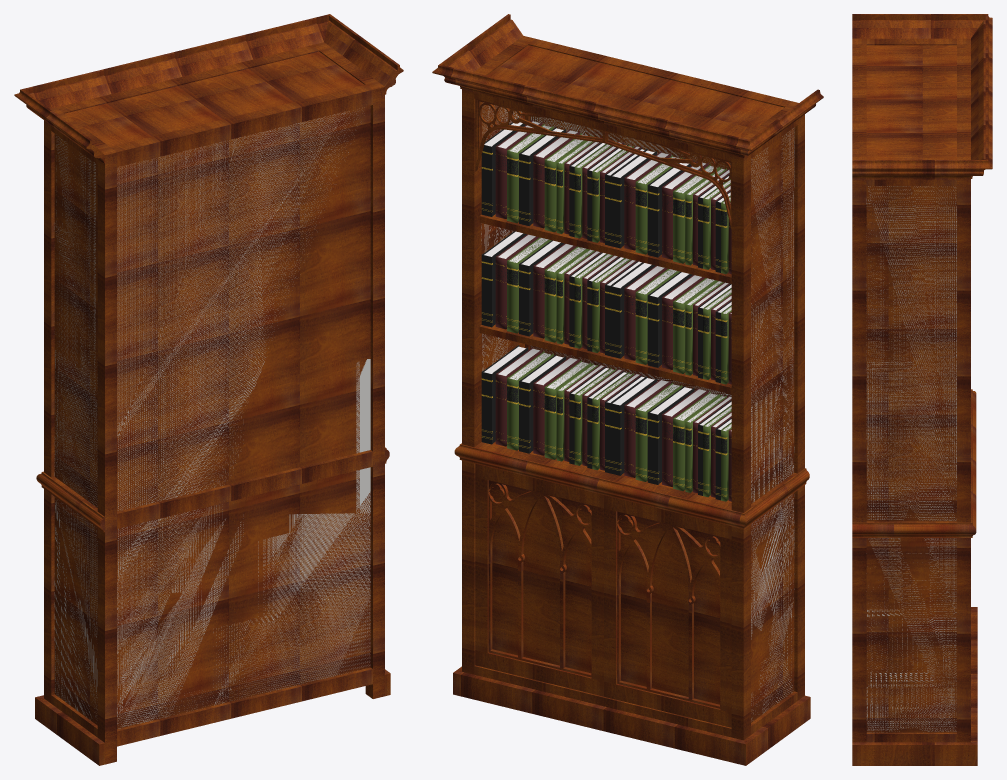
3 renders of one model, left to right at view 1: azimuth 30°, elevation 25°; view 2: azimuth 150°, elevation 25°; view 3: azimuth 270°, elevation 25°, orthographic. The views are drawn at different scales.
Visible parts, largest first — view 1: mesh52_mesh52-geometry, mesh107_mesh107-geometry, mesh73_mesh73-geometry, mesh1_mesh1-geometry, mesh48_mesh48-geometry, mesh111_mesh111-geometry, mesh65_mesh65-geometry, mesh71_mesh71-geometry, mesh115_mesh115-geometry, mesh34_mesh34-geometry, mesh50_mesh50-geometry, mesh53_mesh53-geometry (+4 smaller); view 2: mesh119_mesh119-geometry, mesh98_mesh98-geometry, mesh107_mesh107-geometry, mesh135_mesh135-geometry, mesh133_mesh133-geometry, mesh139_mesh139-geometry, mesh131_mesh131-geometry, mesh71_mesh71-geometry, mesh1_mesh1-geometry, mesh113_mesh113-geometry, mesh111_mesh111-geometry, mesh137_mesh137-geometry (+32 smaller); view 3: mesh11_mesh11-geometry, mesh5_mesh5-geometry, mesh1_mesh1-geometry, mesh48_mesh48-geometry, mesh113_mesh113-geometry, mesh59_mesh59-geometry, mesh65_mesh65-geometry, mesh43_mesh43-geometry, mesh40_mesh40-geometry, mesh53_mesh53-geometry, mesh115_mesh115-geometry, mesh94_mesh94-geometry (+4 smaller).
Part boxes in pixels (x1,y1,x2,y2): mesh52_mesh52-geometry: (117,105,370,729); mesh107_mesh107-geometry: (54,134,97,507); mesh73_mesh73-geometry: (97,147,116,764); mesh1_mesh1-geometry: (65,51,364,146); mesh48_mesh48-geometry: (365,81,384,698); mesh111_mesh111-geometry: (54,497,97,725); mesh65_mesh65-geometry: (17,14,330,108); mesh71_mesh71-geometry: (44,107,62,703); mesh115_mesh115-geometry: (110,84,372,167); mesh34_mesh34-geometry: (117,667,372,746); mesh50_mesh50-geometry: (117,450,372,528); mesh53_mesh53-geometry: (324,14,403,94); mesh119_mesh119-geometry: (617,511,720,708); mesh98_mesh98-geometry: (488,480,591,677); mesh107_mesh107-geometry: (751,128,794,503); mesh135_mesh135-geometry: (481,117,694,484); mesh133_mesh133-geometry: (507,124,719,491); mesh139_mesh139-geometry: (556,136,731,501); mesh131_mesh131-geometry: (495,120,708,486); mesh71_mesh71-geometry: (731,154,750,740); mesh1_mesh1-geometry: (486,45,783,138); mesh113_mesh113-geometry: (462,89,481,674); mesh111_mesh111-geometry: (751,493,794,722); mesh137_mesh137-geometry: (564,136,731,501); mesh11_mesh11-geometry: (866,186,956,521); mesh5_mesh5-geometry: (866,538,956,732); mesh1_mesh1-geometry: (866,45,956,159); mesh48_mesh48-geometry: (852,179,866,742); mesh113_mesh113-geometry: (957,179,970,742); mesh59_mesh59-geometry: (852,14,988,38); mesh65_mesh65-geometry: (971,14,992,176); mesh43_mesh43-geometry: (852,742,977,765); mesh40_mesh40-geometry: (852,389,976,537); mesh53_mesh53-geometry: (852,160,992,179); mesh115_mesh115-geometry: (852,44,866,159); mesh94_mesh94-geometry: (957,44,970,159).
Bounding box in the file's own units: 0.4599 × 0.8693 × 0.1811.
